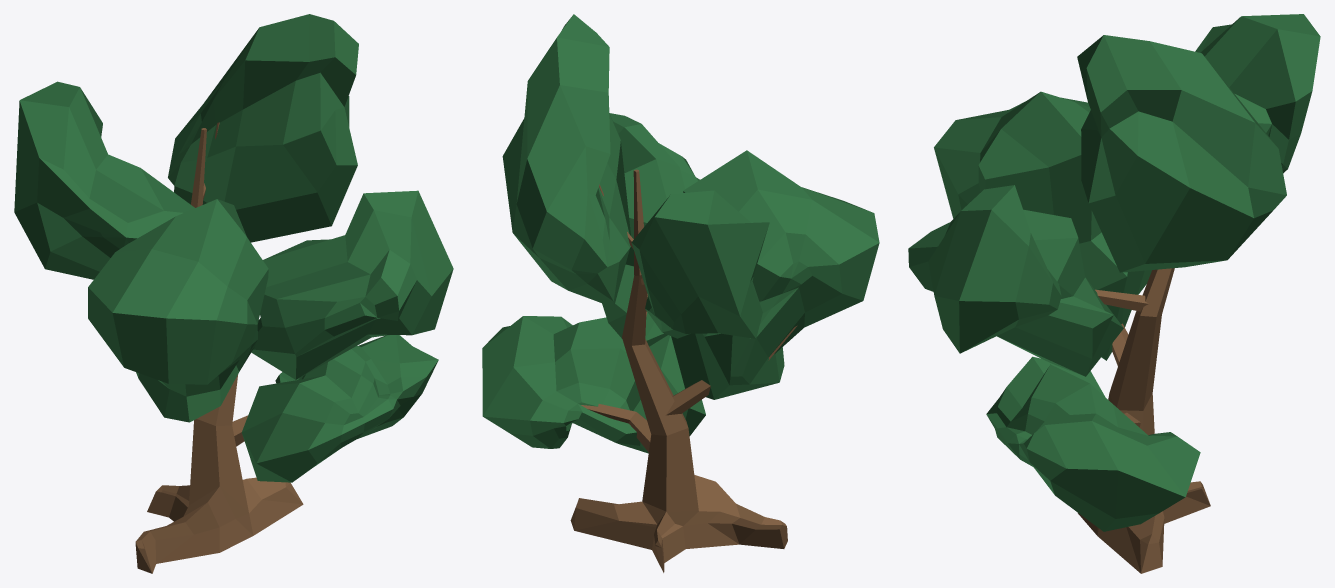
File: Tree_Basic1.fbx
The picture shows the model from 3 angles, left to right: view 1: azimuth 30°, elevation 25°; view 2: azimuth 150°, elevation 25°; view 3: azimuth 270°, elevation 25°; orthographic projection. The views are drawn at different scales.
Visible parts, largest first — view 1: Tree.Basic.1; view 2: Tree.Basic.1; view 3: Tree.Basic.1.
Boxes of the visible parts, x1=… form: Tree.Basic.1: x1=14, y1=14, x2=453, y2=573; Tree.Basic.1: x1=482, y1=14, x2=879, y2=572; Tree.Basic.1: x1=908, y1=14, x2=1320, y2=573.
Size of the model in its own units: 3125 by 4177 by 2856.
